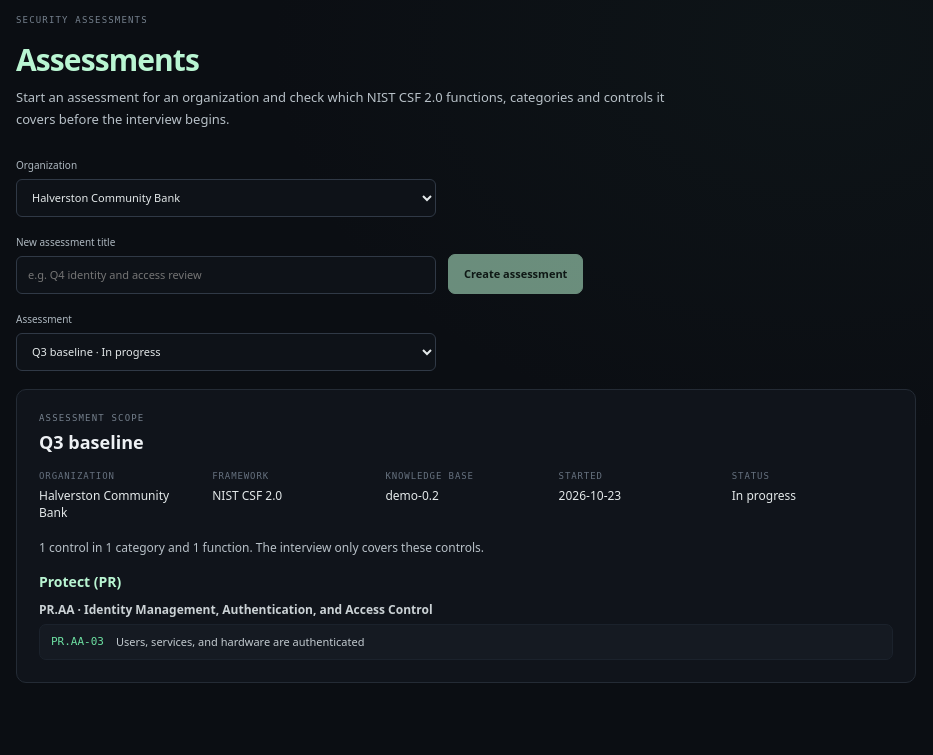
AssessmentWorkspace › shows a readable validation message
Check: the heading "Q3 baseline" is shown, box [39,430,144,454]
Type "Q4" into the field labelled "New assessment title".
click(226, 275); type("Q4")  # box [16,256,436,294]
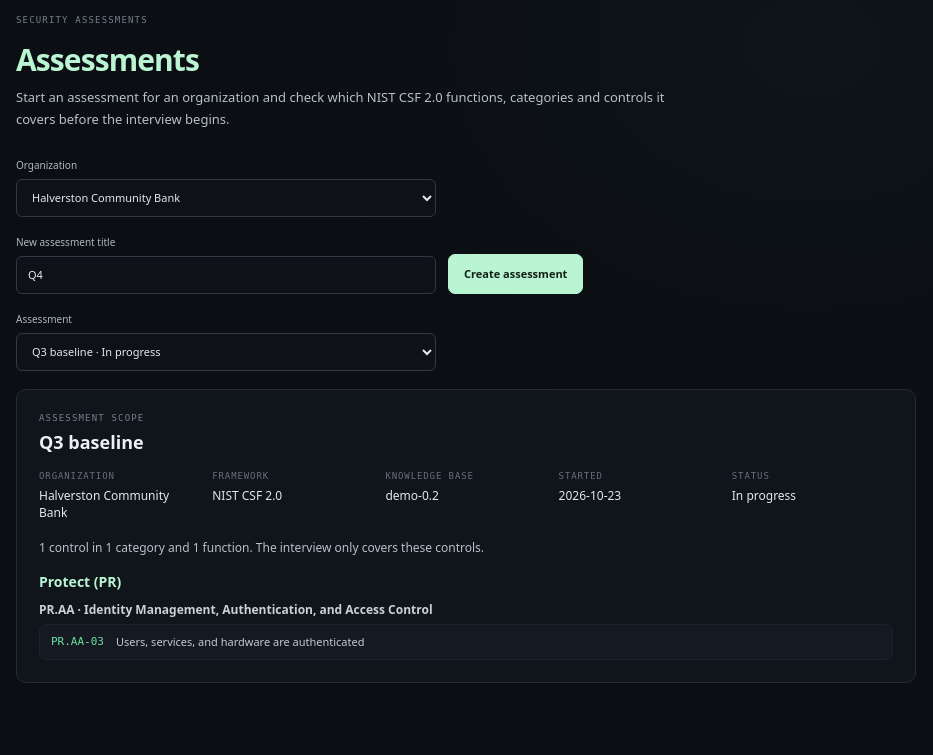
Click the button "Create assessment".
click(516, 274)  # box [448,254,583,294]
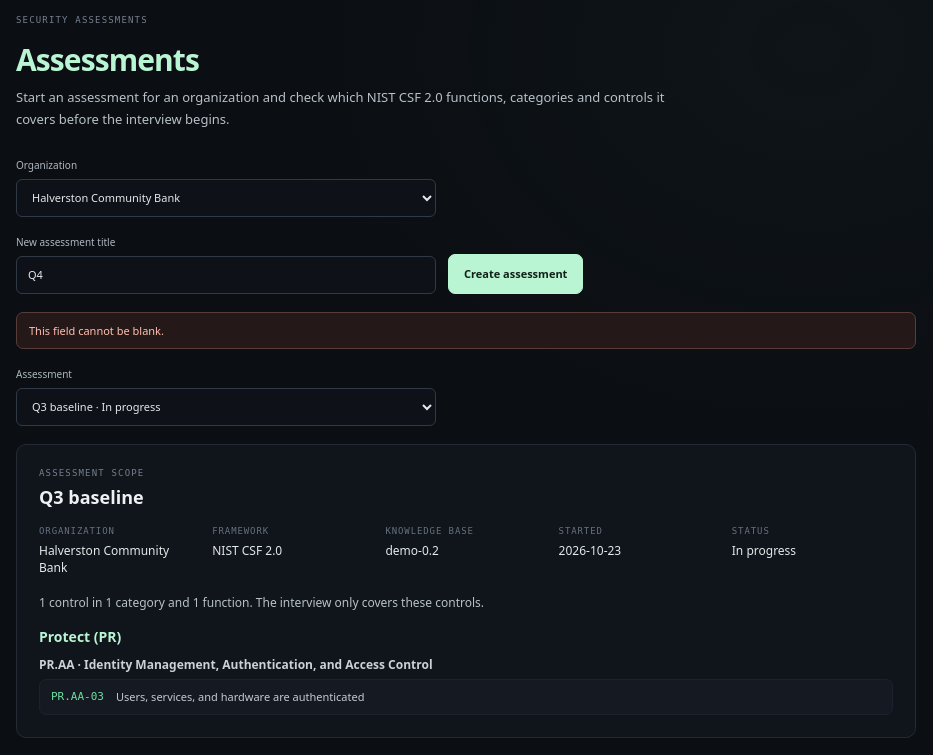
Check: the message reads "This field cannot be blank.", box [29,323,164,338]
